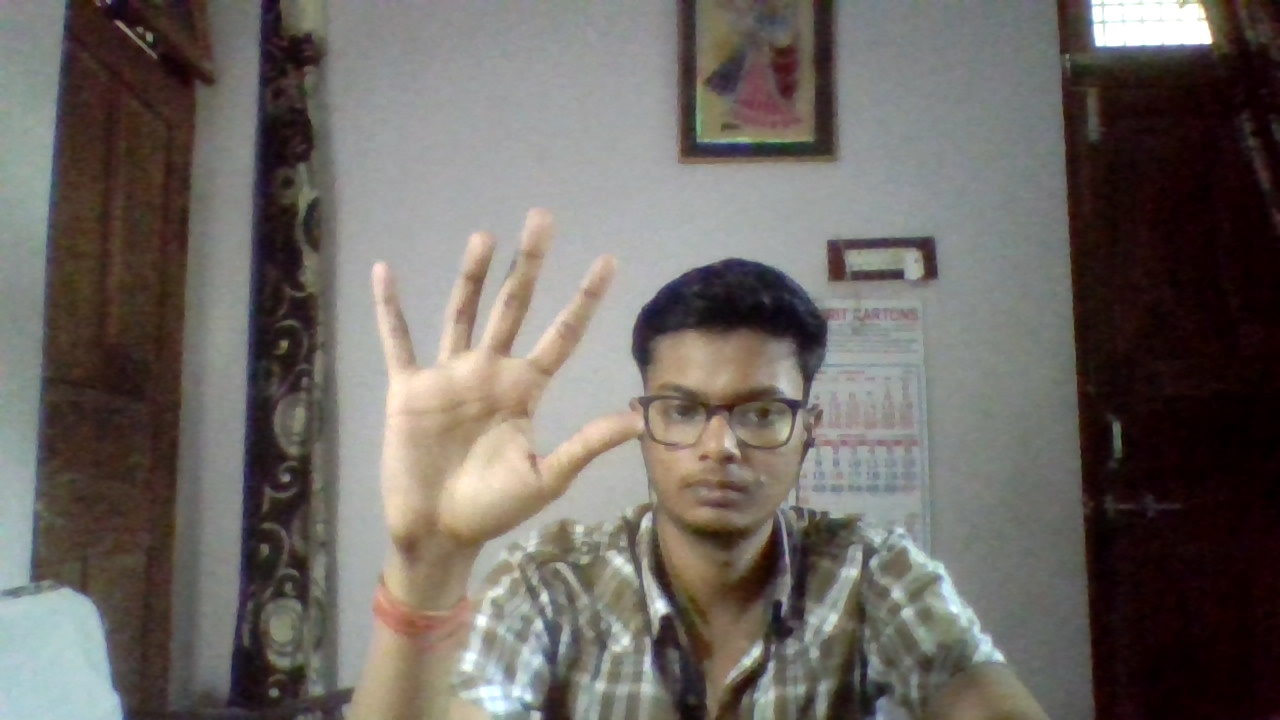five: (367, 192, 657, 587)
